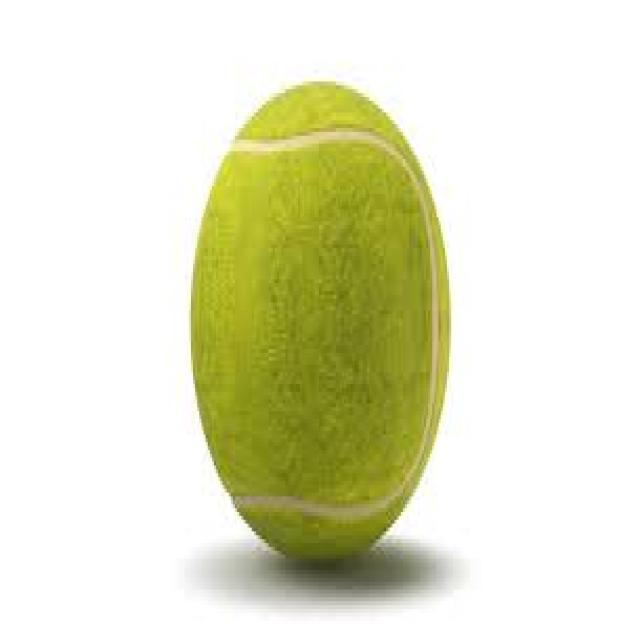tenis ball: (190, 77, 451, 563)
